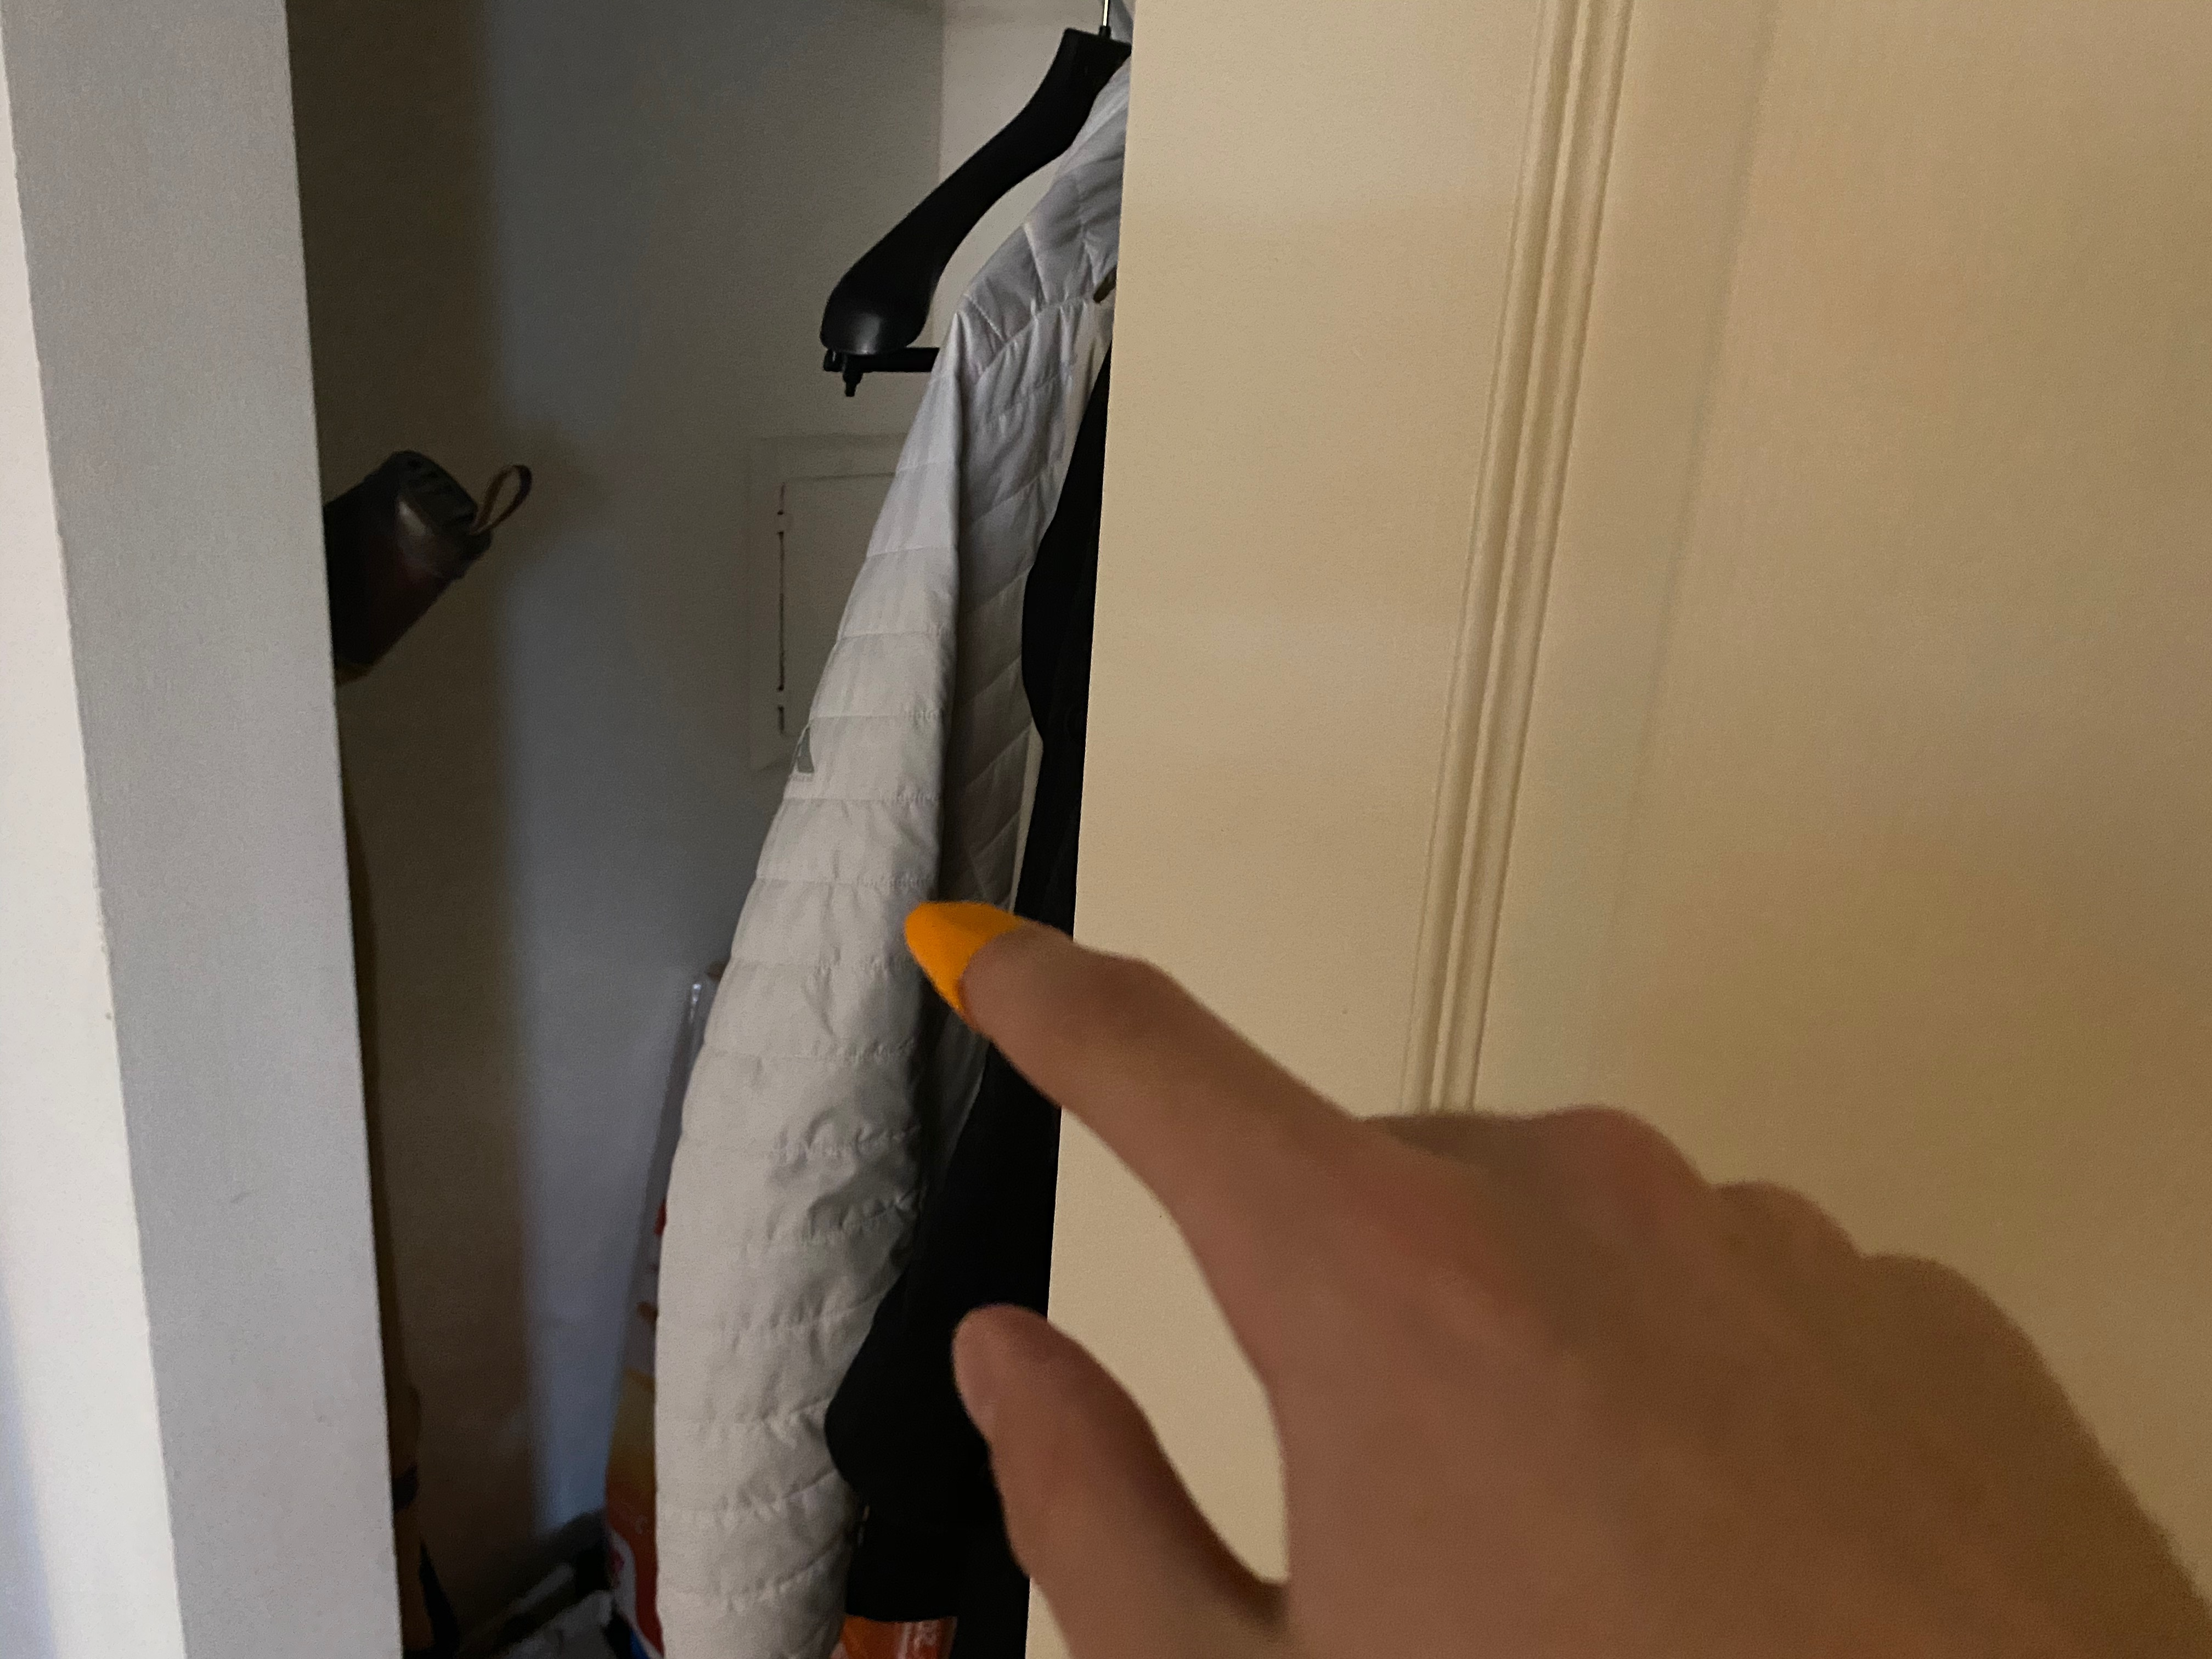fingertip: (853, 852, 1075, 1025)
